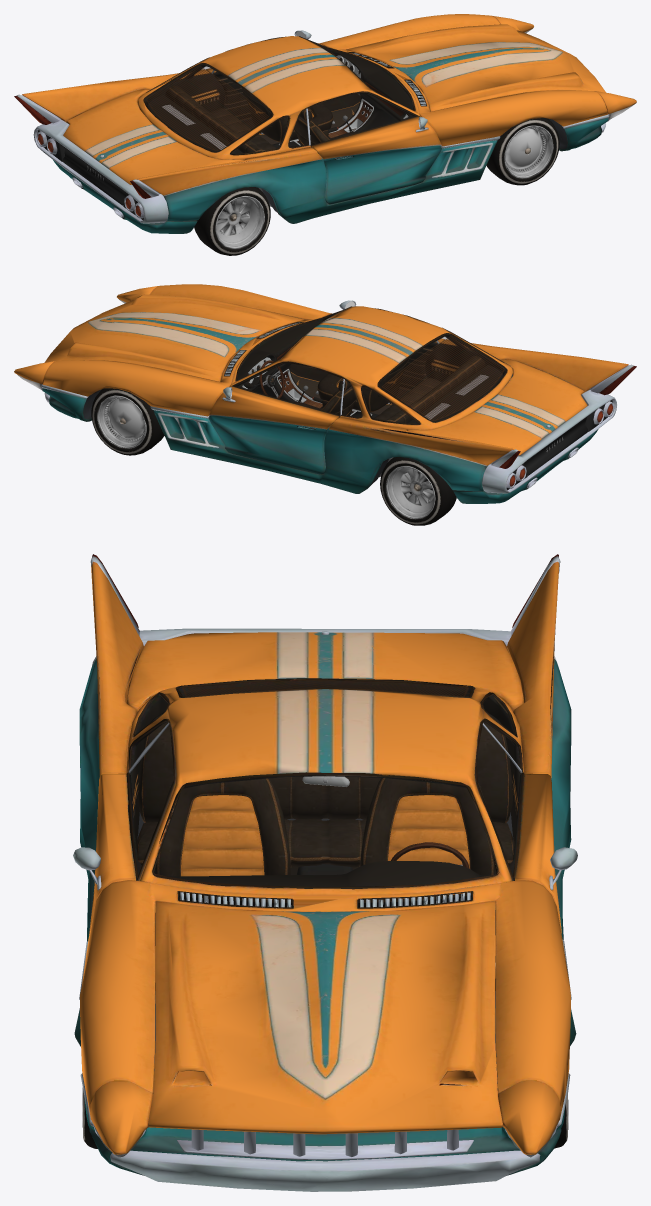
The model's file is car.glb.
The picture shows the model from 3 angles, top to bottom: view 1: azimuth 30°, elevation 25°; view 2: azimuth 150°, elevation 25°; view 3: azimuth 270°, elevation 25°; orthographic projection. The views are drawn at different scales.
Parts seen in each view (by area): view 1: car_body_body_one_mat_0, car_body_body_two_mat_0, car_body_glass_mat_0, car_body_wheels_mat_0, car_body_interior_one_mat_0, car_body_interior_two_mat_0, car_body_details_mat_0; view 2: car_body_body_one_mat_0, car_body_body_two_mat_0, car_body_glass_mat_0, car_body_wheels_mat_0, car_body_interior_one_mat_0, car_body_interior_two_mat_0, car_body_details_mat_0; view 3: car_body_body_one_mat_0, car_body_body_two_mat_0, car_body_glass_mat_0, car_body_interior_two_mat_0, car_body_details_mat_0, car_body_interior_one_mat_0.
Part boxes in pixels (x1,y1,x2,y2): car_body_body_one_mat_0: (22,14,636,223); car_body_body_two_mat_0: (16,36,605,233); car_body_glass_mat_0: (14,29,634,216); car_body_wheels_mat_0: (194,118,559,255); car_body_interior_one_mat_0: (147,51,415,153); car_body_interior_two_mat_0: (165,85,357,153); car_body_details_mat_0: (72,30,610,223); car_body_body_one_mat_0: (14,284,628,493); car_body_body_two_mat_0: (44,306,634,503); car_body_glass_mat_0: (17,299,636,486); car_body_wheels_mat_0: (91,388,456,525); car_body_interior_one_mat_0: (235,321,503,423); car_body_interior_two_mat_0: (293,356,485,423); car_body_details_mat_0: (40,300,578,493); car_body_body_one_mat_0: (74,561,576,1175); car_body_body_two_mat_0: (90,556,560,1191); car_body_glass_mat_0: (92,554,558,1157); car_body_interior_two_mat_0: (136,722,514,876); car_body_details_mat_0: (73,631,577,1140); car_body_interior_one_mat_0: (128,713,524,975).
Bounding box in the file's own units: 4.57 × 1.06 × 1.95.
Materials: 8 (8 with a texture image).
